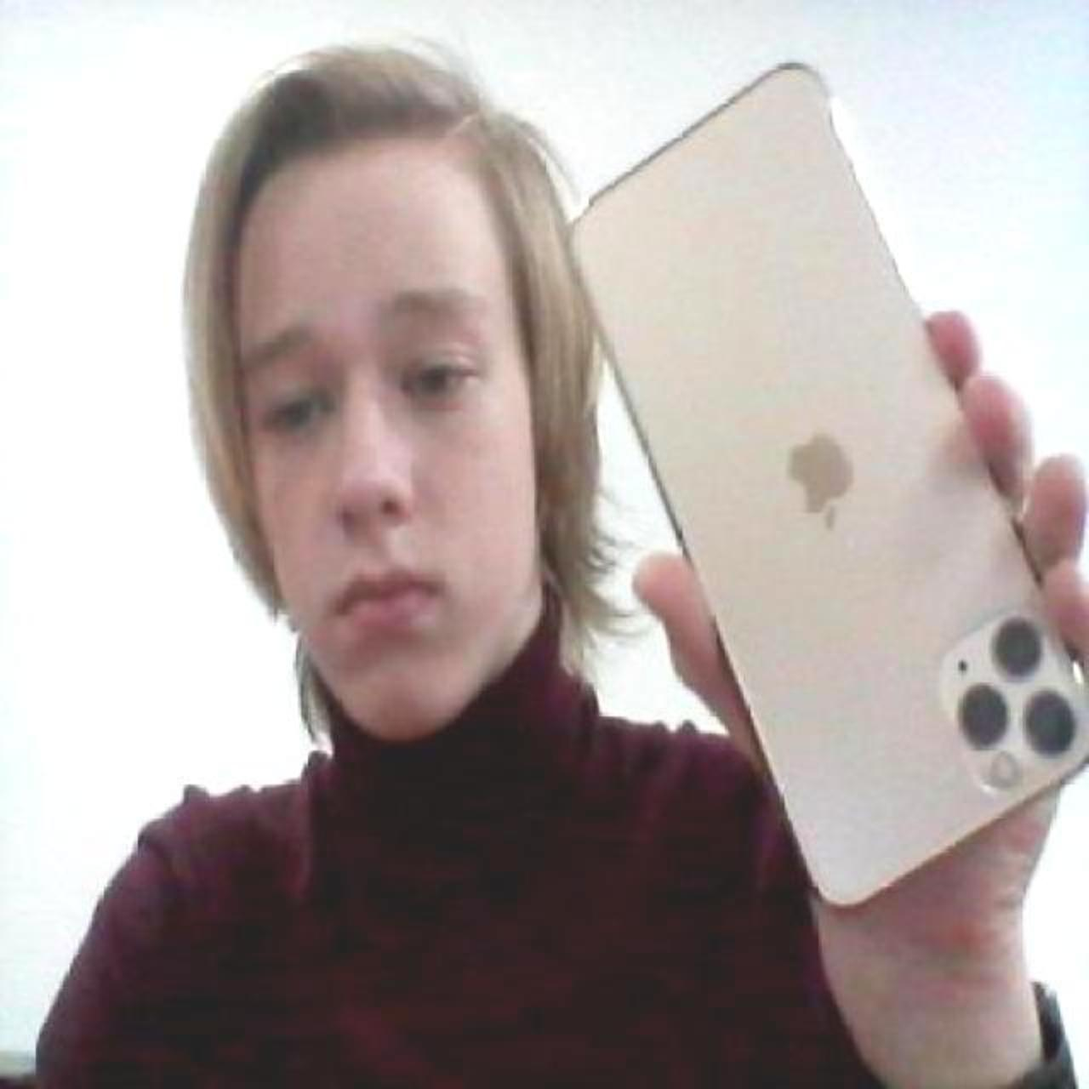phone: (550, 63, 1087, 927)
